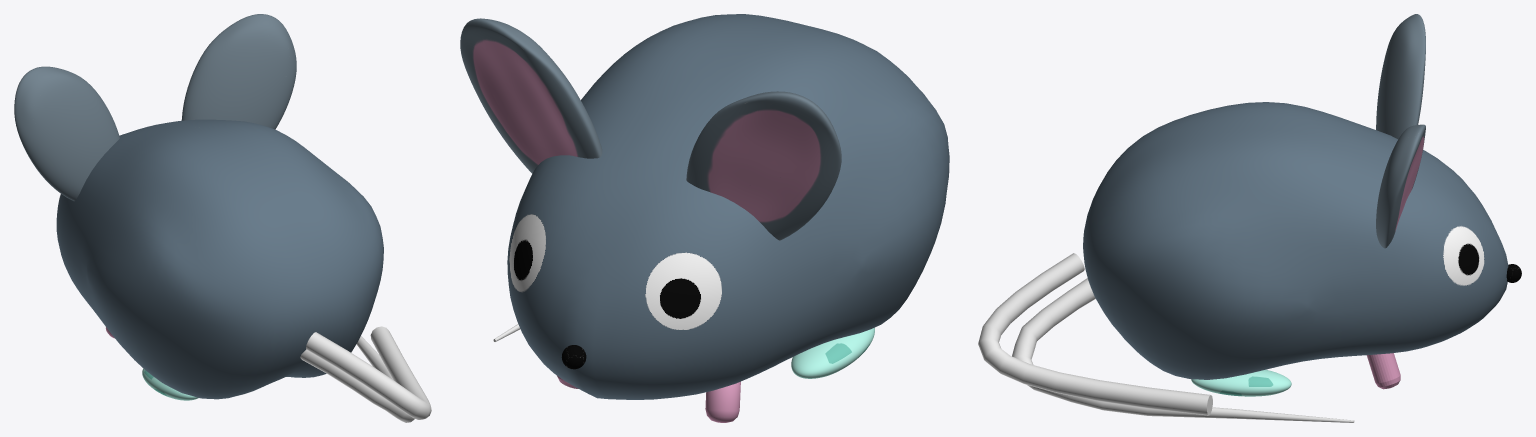
File: mouse.fbx
3 views of the same model, side by side, from view 1: azimuth 30°, elevation 25°; view 2: azimuth 150°, elevation 25°; view 3: azimuth 270°, elevation 25° (orthographic). The views are drawn at different scales.
Visible parts, largest first — view 1: Roundcube, Roundcube.002, BezierCurve.001, BezierCurve.002, Roundcube.005; view 2: Roundcube, Roundcube.002, Roundcube.005, Cylinder.001, Sphere; view 3: Roundcube, Roundcube.002, BezierCurve.001, BezierCurve.002, Roundcube.005, Cylinder.
Part boxes in pixels (x1,y1,x2,y2): Roundcube: [56, 119, 383, 399]; Roundcube.002: [14, 14, 296, 201]; BezierCurve.001: [306, 326, 431, 419]; BezierCurve.002: [300, 336, 414, 422]; Roundcube.005: [142, 368, 198, 400]; Roundcube: [507, 14, 949, 399]; Roundcube.002: [460, 18, 841, 240]; Roundcube.005: [791, 328, 874, 378]; Cylinder.001: [705, 381, 740, 422]; Sphere: [561, 345, 586, 369]; Roundcube: [1083, 102, 1508, 379]; Roundcube.002: [1376, 14, 1425, 248]; BezierCurve.001: [978, 253, 1212, 415]; BezierCurve.002: [1012, 278, 1354, 422]; Roundcube.005: [1191, 369, 1291, 396]; Cylinder: [1367, 353, 1400, 389].
Size of the model in its own units: 162 by 150 by 259.
